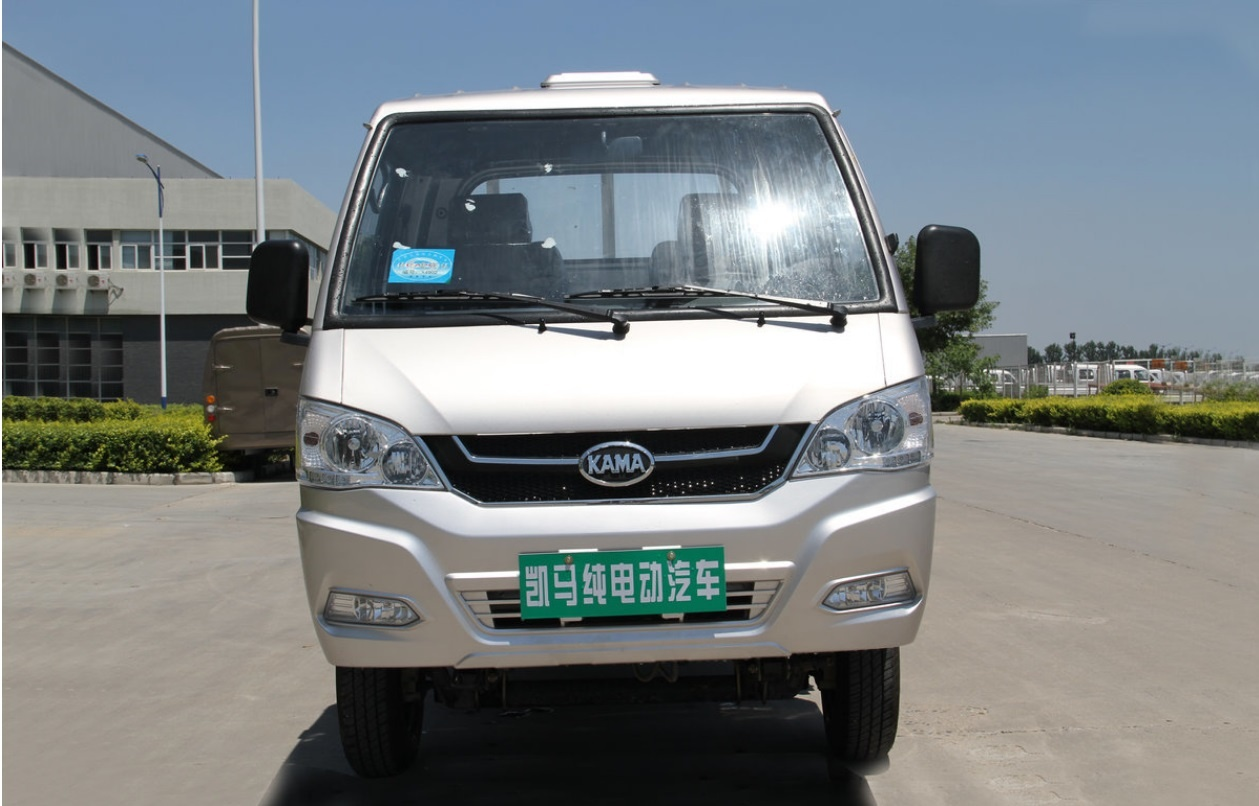truck: (250, 77, 986, 775)
